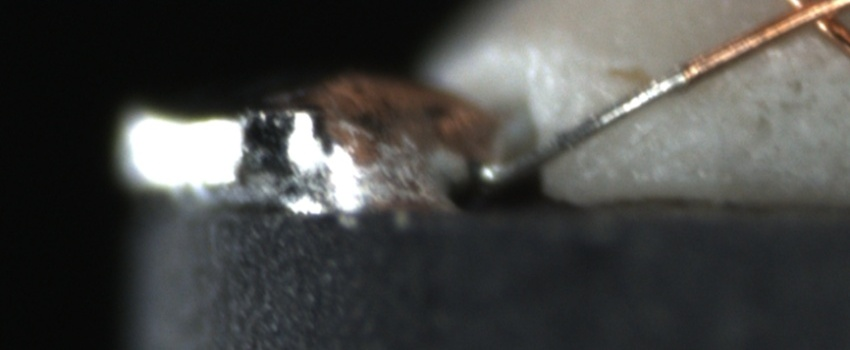CL: (764, 0, 846, 42)
TS: (480, 66, 689, 188)
